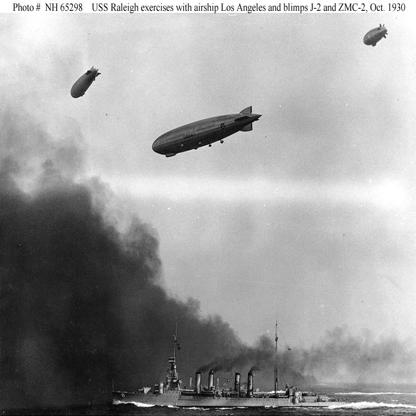Airship: (150, 104, 264, 169), (66, 65, 106, 105), (355, 19, 394, 54)
